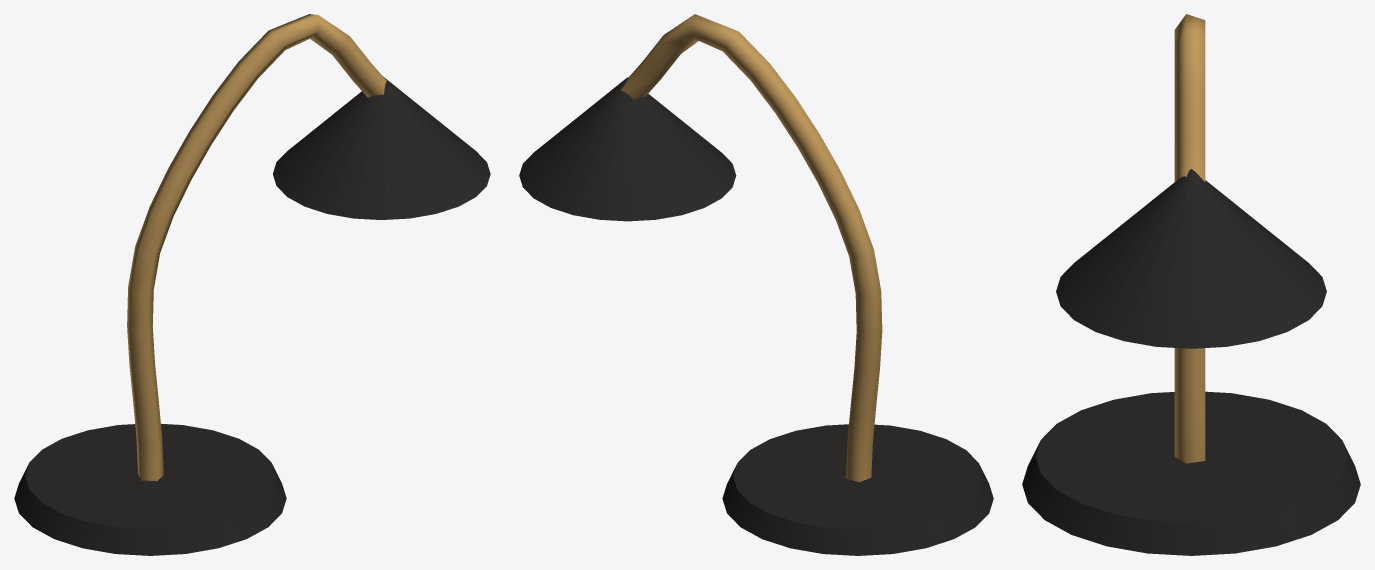
The model's file is task-lamp.glb.
3 renders of one model, left to right at view 1: azimuth 30°, elevation 25°; view 2: azimuth 150°, elevation 25°; view 3: azimuth 270°, elevation 25°, orthographic. The views are drawn at different scales.
Visible parts, largest first — view 1: lamp-base, lamp-shade, lamp-stem; view 2: lamp-base, lamp-shade, lamp-stem; view 3: lamp-base, lamp-shade, lamp-stem.
Part boxes in pixels (x1=…): lamp-base: x1=14, y1=424, x2=286, y2=555; lamp-shade: x1=273, y1=76, x2=490, y2=219; lamp-stem: x1=127, y1=14, x2=386, y2=481; lamp-base: x1=722, y1=424, x2=993, y2=555; lamp-shade: x1=519, y1=77, x2=736, y2=221; lamp-stem: x1=620, y1=14, x2=882, y2=481; lamp-base: x1=1022, y1=391, x2=1360, y2=555; lamp-shade: x1=1056, y1=169, x2=1326, y2=348; lamp-stem: x1=1174, y1=14, x2=1205, y2=463.
Size of the model in its own units: 0.94 by 0.9 by 0.5.
